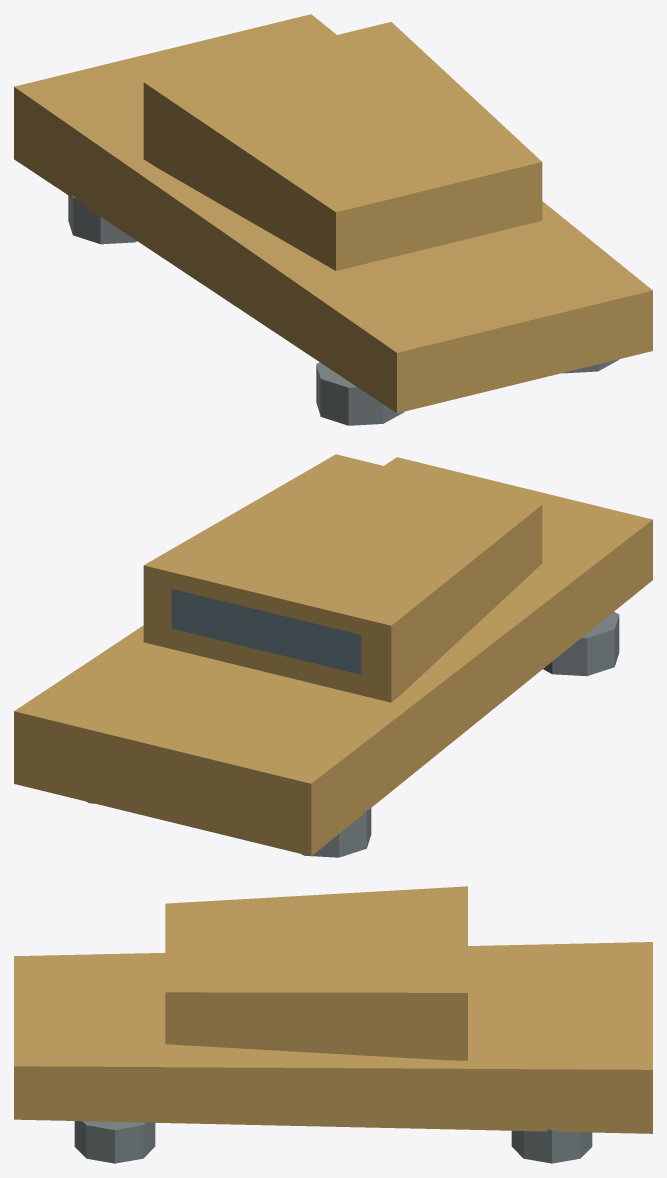
File: hover_vehicle_animated.glb
The picture shows the model from 3 angles, top to bottom: view 1: azimuth 30°, elevation 25°; view 2: azimuth 150°, elevation 25°; view 3: azimuth 270°, elevation 25°; orthographic projection. The views are drawn at different scales.
Visible parts, largest first — view 1: HoverVehicle_traffic_demo; view 2: HoverVehicle_traffic_demo; view 3: HoverVehicle_traffic_demo.
Part boxes in pixels (box(x1,y1,x2,y2)): HoverVehicle_traffic_demo: box(14, 14, 652, 425); HoverVehicle_traffic_demo: box(14, 454, 652, 857); HoverVehicle_traffic_demo: box(14, 886, 652, 1163).
Bounding box in the file's own units: 1.8 × 1.06 × 3.8.
